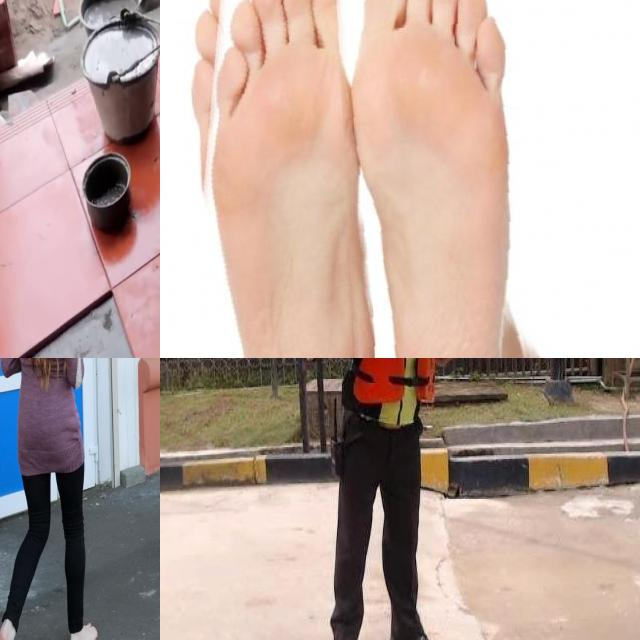Barefoots: (186, 0, 415, 358), (355, 0, 528, 358), (69, 622, 97, 640)
boots: (386, 623, 447, 640)
person: (292, 358, 496, 640)
vest: (342, 358, 442, 433)
